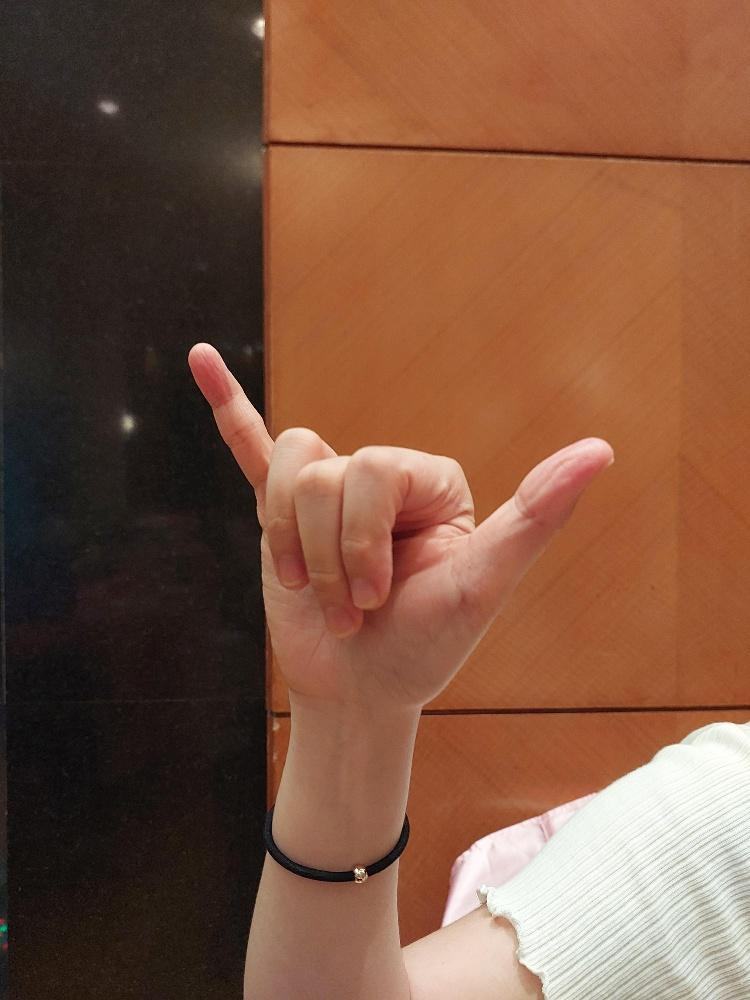y: (185, 335, 618, 716)
